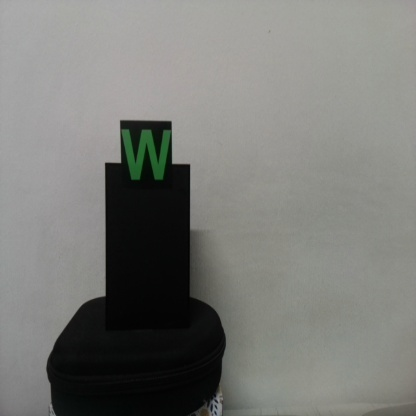id_12: (120, 120, 173, 193)
